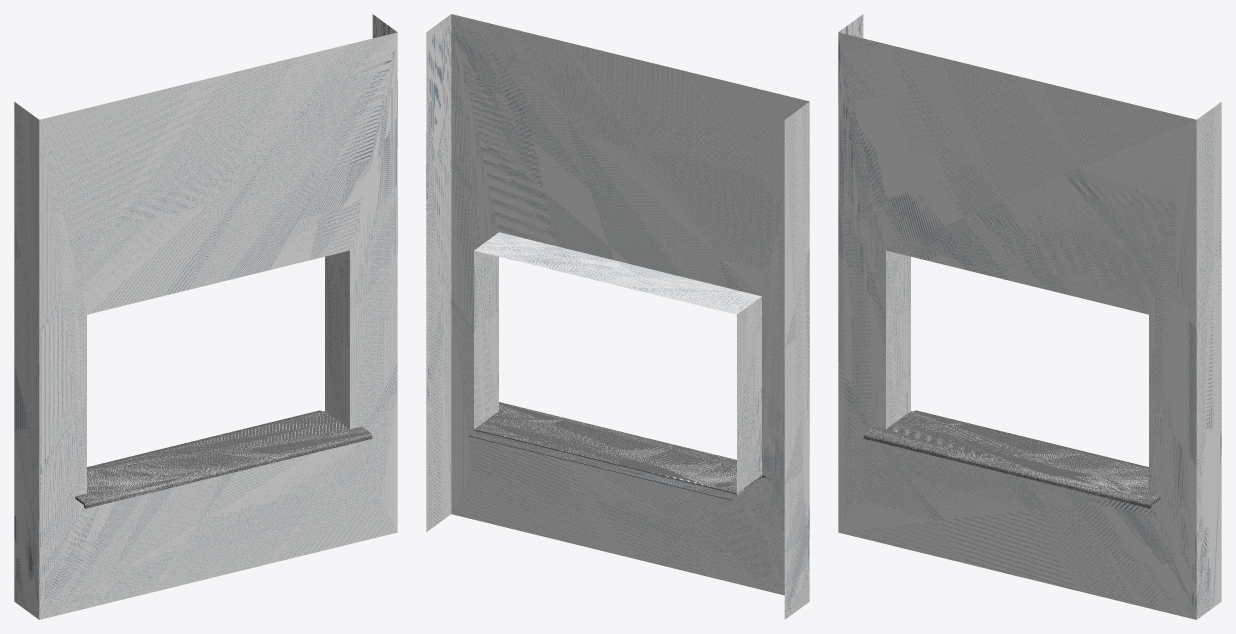
The model's file is WindowBlock_os_[300x400]_220x143x[090].dae.
3 views of the same model, side by side, from view 1: azimuth 30°, elevation 25°; view 2: azimuth 150°, elevation 25°; view 3: azimuth 330°, elevation 25° (orthographic).
Visible parts, largest first — view 1: group_1 (×2), group_2 (×2); view 2: group_1 (×2), group_2 (×2); view 3: group_1 (×2), group_2 (×2).
Part boxes in pixels (x1,y1,x2,y2): group_1 (×2): (14,14,397,619); group_2 (×2): (75,410,372,508); group_1 (×2): (426,14,809,619); group_2 (×2): (469,402,769,500); group_1 (×2): (838,14,1221,619); group_2 (×2): (863,410,1160,508).
Size of the model in its own units: 118 by 23.03 by 157.
